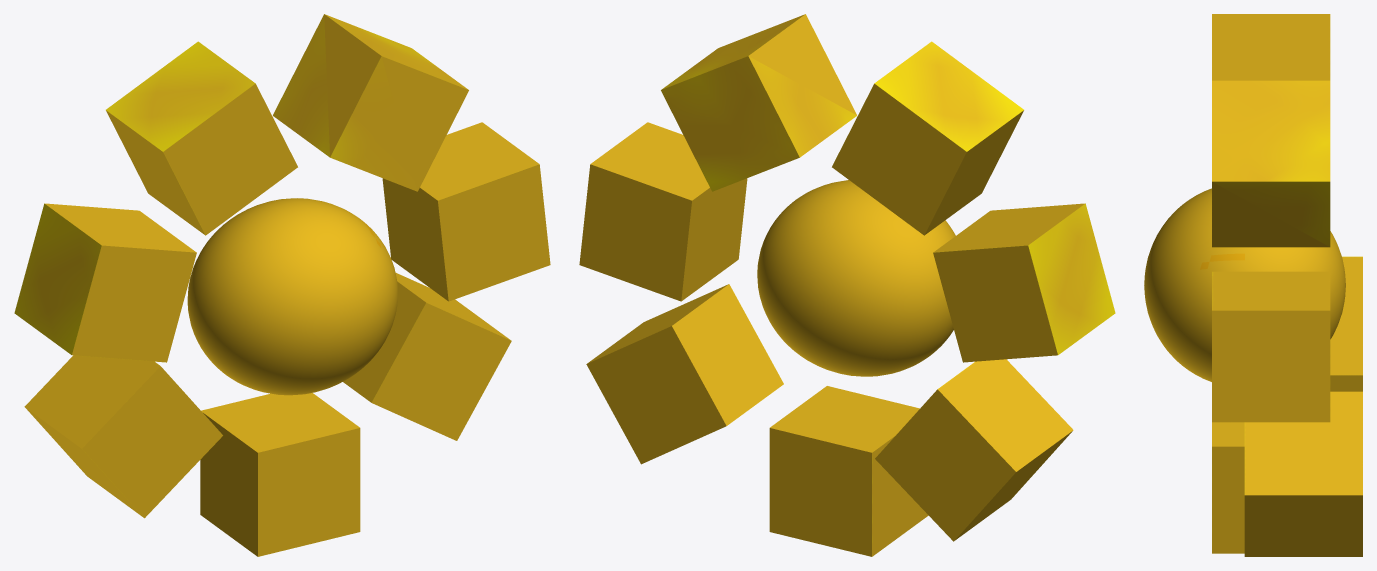
File: SOL.glb
3 views of the same model, side by side, from view 1: azimuth 30°, elevation 25°; view 2: azimuth 150°, elevation 25°; view 3: azimuth 270°, elevation 25° (orthographic). The views are drawn at different scales.
Parts seen in each view (by area): view 1: node_id5, node_id20, node_id26, node_id8, node_id14, node_id11, node_id23, node_id17; view 2: node_id5, node_id20, node_id8, node_id14, node_id11, node_id17, node_id23, node_id26; view 3: node_id11, node_id14, node_id17, node_id5, node_id8, node_id26, node_id23.
Part boxes in pixels (x1,y1,x2,y2): node_id5: [187, 198, 397, 395]; node_id20: [14, 203, 196, 362]; node_id26: [200, 393, 360, 556]; node_id8: [106, 41, 297, 235]; node_id14: [382, 122, 550, 301]; node_id11: [273, 14, 468, 191]; node_id23: [24, 355, 222, 518]; node_id17: [343, 273, 511, 440]; node_id5: [757, 180, 955, 376]; node_id20: [933, 203, 1115, 362]; node_id8: [832, 41, 1023, 235]; node_id14: [579, 122, 747, 301]; node_id11: [661, 14, 856, 191]; node_id17: [586, 284, 783, 464]; node_id23: [875, 359, 1073, 541]; node_id26: [769, 386, 928, 556]; node_id11: [1212, 80, 1330, 247]; node_id14: [1212, 271, 1330, 422]; node_id17: [1244, 391, 1362, 556]; node_id5: [1144, 188, 1345, 381]; node_id8: [1212, 14, 1330, 80]; node_id26: [1212, 422, 1244, 553]; node_id23: [1330, 256, 1362, 391].
Size of the model in its own units: 0.512 by 0.4845 by 0.1971.
8 materials, 8 textured.
